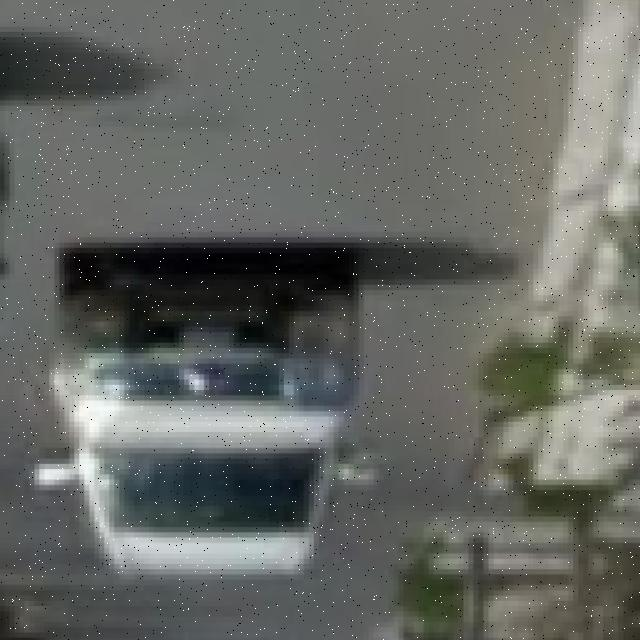car: (47, 239, 370, 582)
